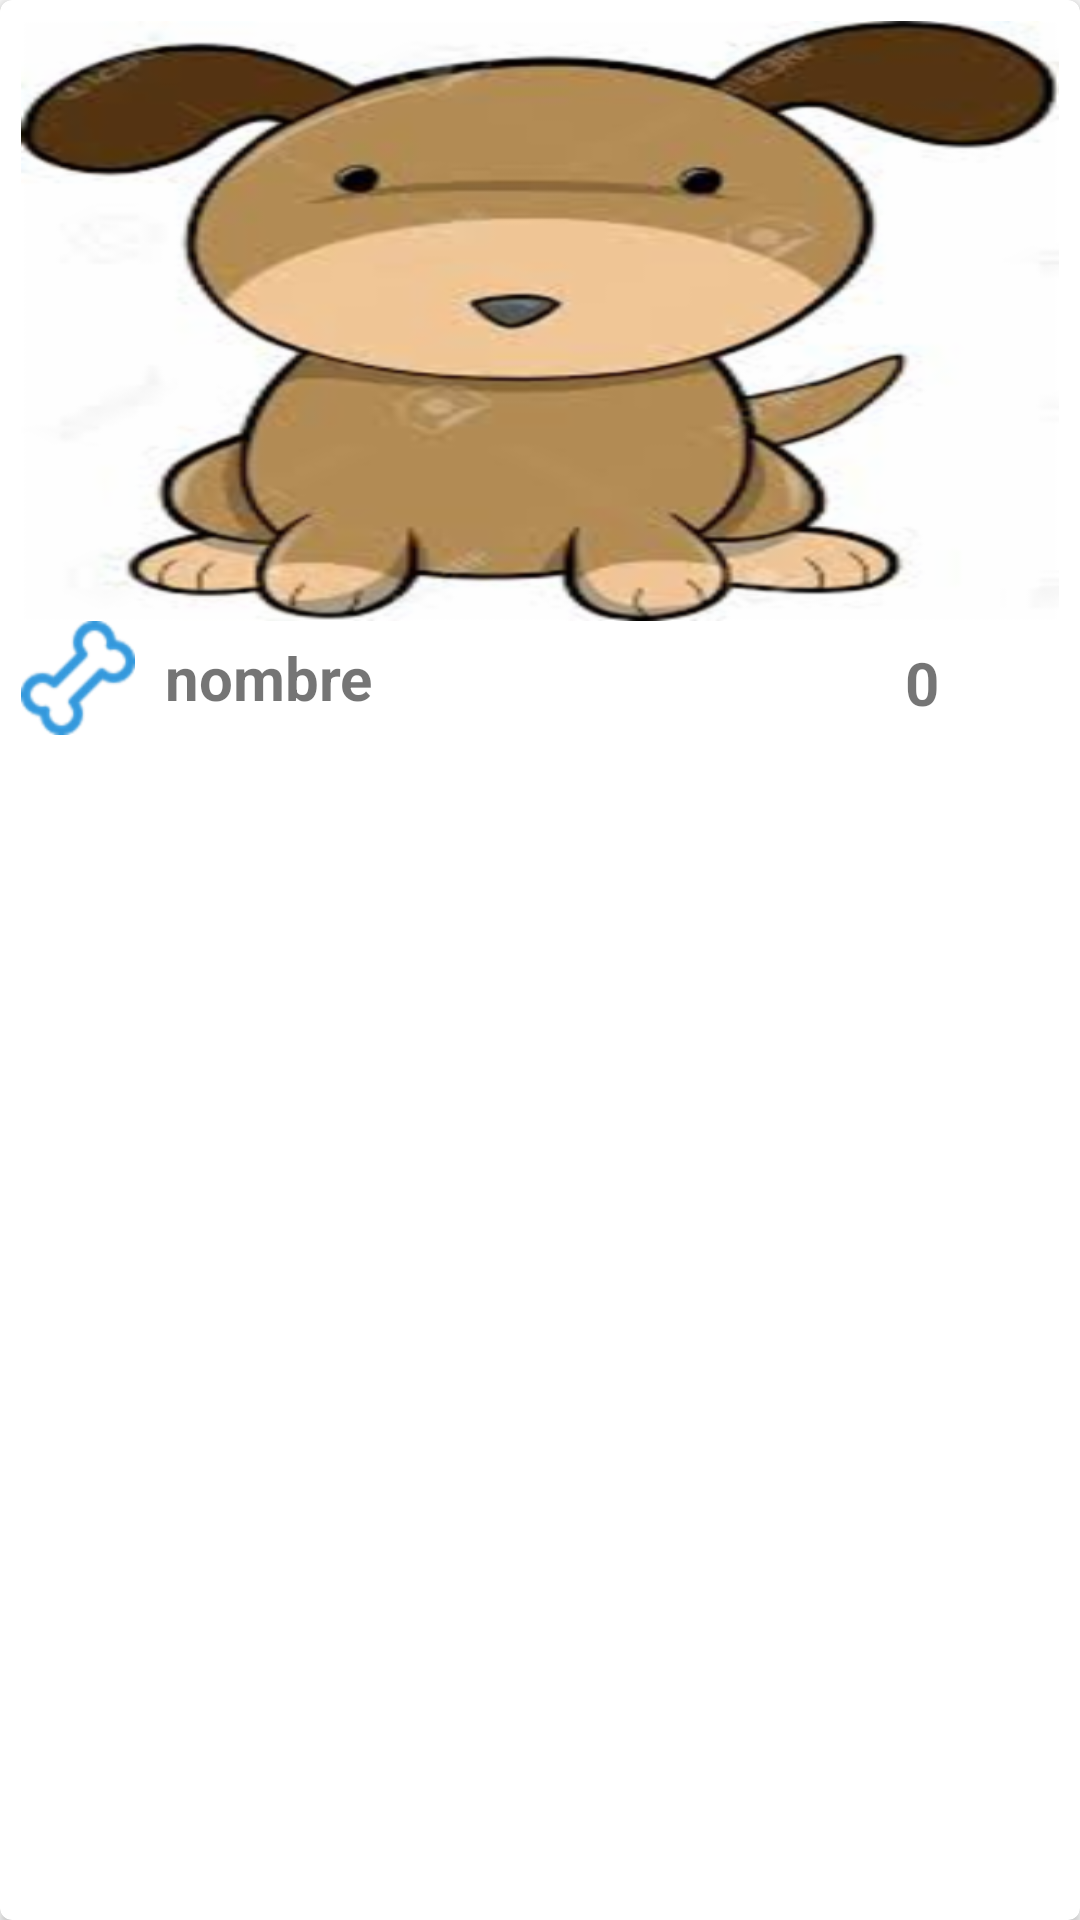

Locate icon controls on the screen. Image size 1080px x 1920px, boxes as Rect(x1, y1, x2, y2).
dog bone like: Rect(21, 621, 135, 735)
